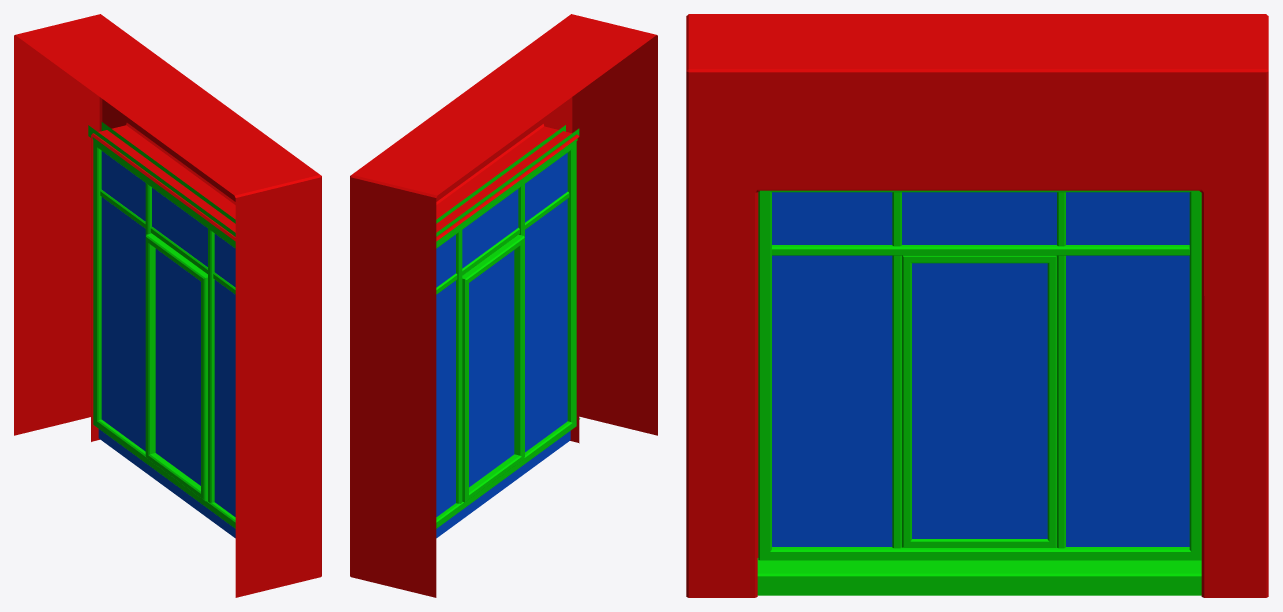
The model's file is shop_B.fbx.
3 views of the same model, side by side, from view 1: azimuth 30°, elevation 25°; view 2: azimuth 150°, elevation 25°; view 3: azimuth 270°, elevation 25° (orthographic). The views are drawn at different scales.
Visible parts, largest first — view 1: polySurface201; view 2: polySurface201; view 3: polySurface201.
Part boxes in pixels (left/top/right/bottom): polySurface201: left=14, top=14, right=321, bottom=597; polySurface201: left=350, top=14, right=657, bottom=597; polySurface201: left=686, top=14, right=1268, bottom=597.
Size of the model in its own units: 68.27 by 300 by 300.
